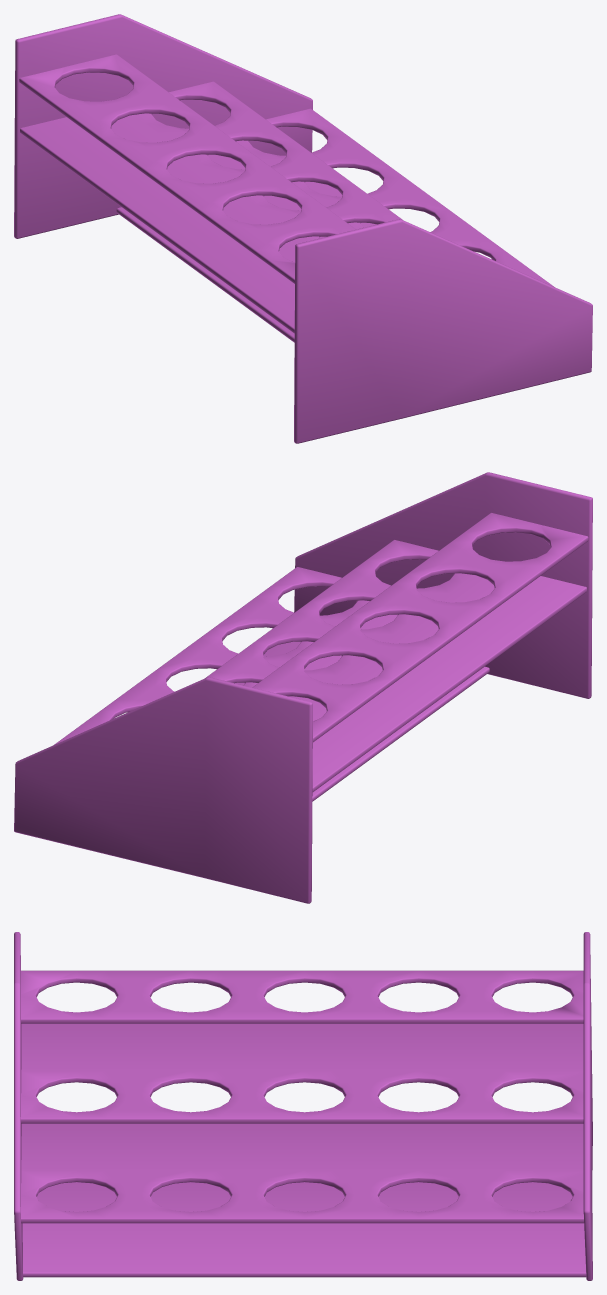
Rendered from ReagentRack.004.fbx.
3 views of the same model, one above another, from view 1: azimuth 30°, elevation 25°; view 2: azimuth 150°, elevation 25°; view 3: azimuth 270°, elevation 25° (orthographic).
Visible parts, largest first — view 1: GEO_ReagentRack_rack; view 2: GEO_ReagentRack_rack; view 3: GEO_ReagentRack_rack.
Part boxes in pixels (x1,y1,x2,y2): GEO_ReagentRack_rack: [14, 14, 592, 443]; GEO_ReagentRack_rack: [14, 472, 592, 903]; GEO_ReagentRack_rack: [14, 932, 592, 1280].
Size of the model in its own units: 611 by 394 by 1016.
